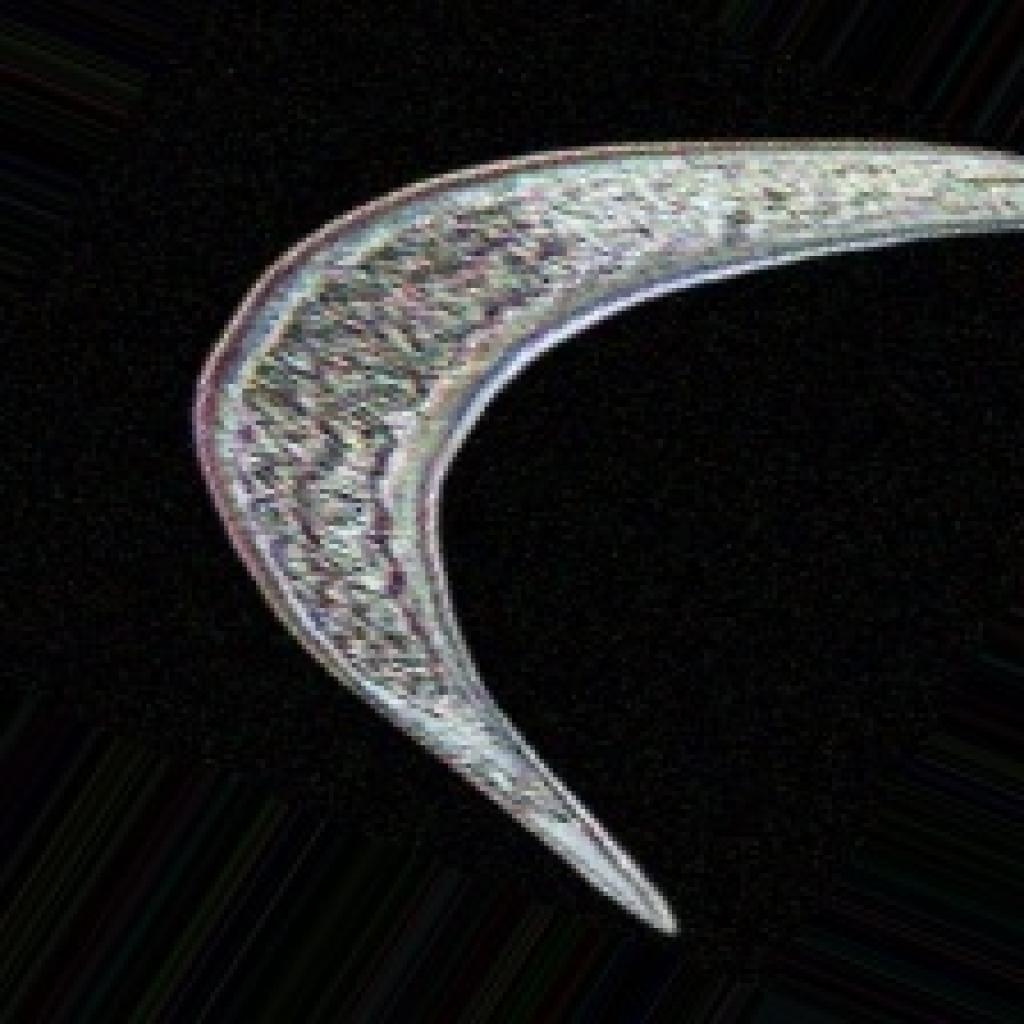Nematode: (183, 128, 1019, 955)
